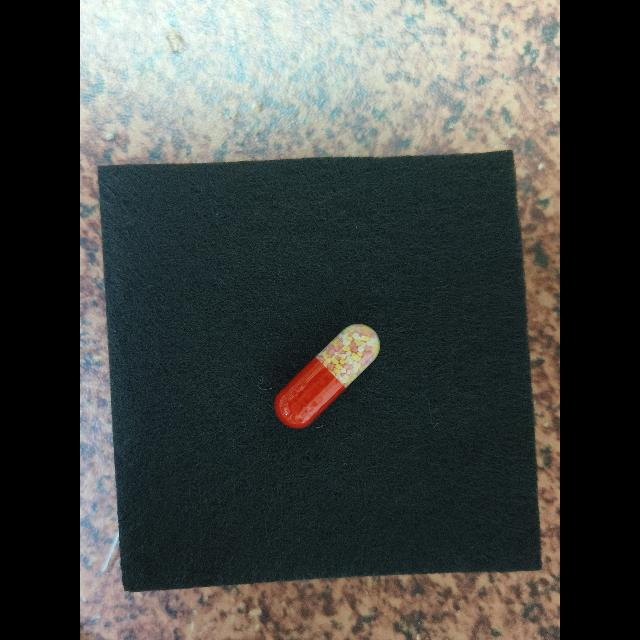Intact Capsule: (274, 324, 380, 429)
